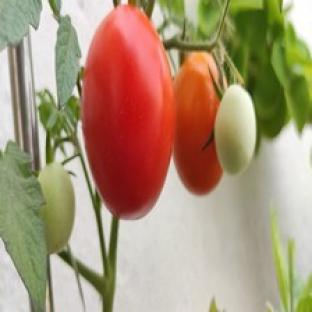Tomato: (83, 5, 174, 218), (173, 52, 222, 194), (215, 85, 256, 174), (38, 162, 75, 253)
